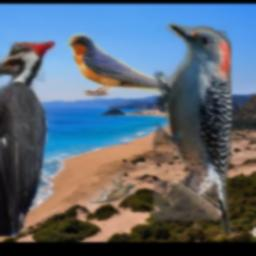Cuckoo: (91, 169, 137, 204)
Swallow: (64, 32, 174, 99)
Woodpecker: (154, 18, 233, 236), (0, 41, 56, 236)
